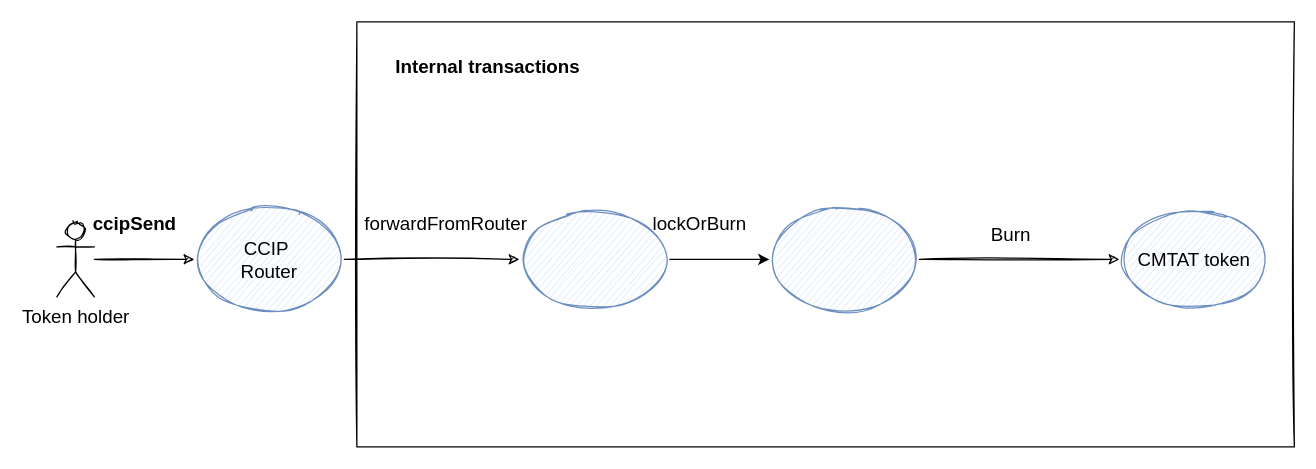
Image size: 1316x469. Some labels were removed from this diagram. Each missing label, with the box of its shape:
CCIP OnRamp: (518, 208, 669, 309)
CCIP Token Pool: (768, 208, 919, 309)
